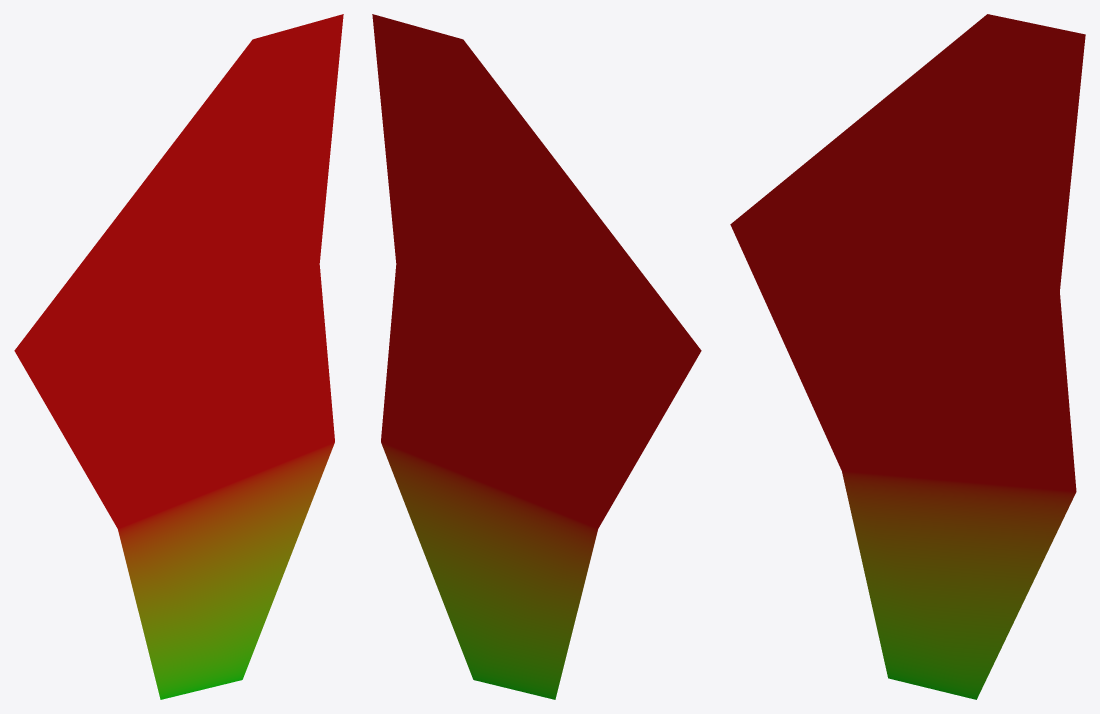
The model's file is Myricaria_LOD3_Var4_tfbldaor.fbx.
3 renders of one model, left to right at view 1: azimuth 30°, elevation 25°; view 2: azimuth 150°, elevation 25°; view 3: azimuth 330°, elevation 25°, orthographic. The views are drawn at different scales.
Visible parts, largest first — view 1: _a0cf_Var4_LOD3; view 2: _a0cf_Var4_LOD3; view 3: _a0cf_Var4_LOD3.
Part boxes in pixels (x1,y1,x2,y2): _a0cf_Var4_LOD3: [14, 14, 343, 699]; _a0cf_Var4_LOD3: [372, 14, 701, 699]; _a0cf_Var4_LOD3: [730, 14, 1085, 699].
Bounding box in the file's own units: 28.69 × 53.4 × 6.68e-06.
